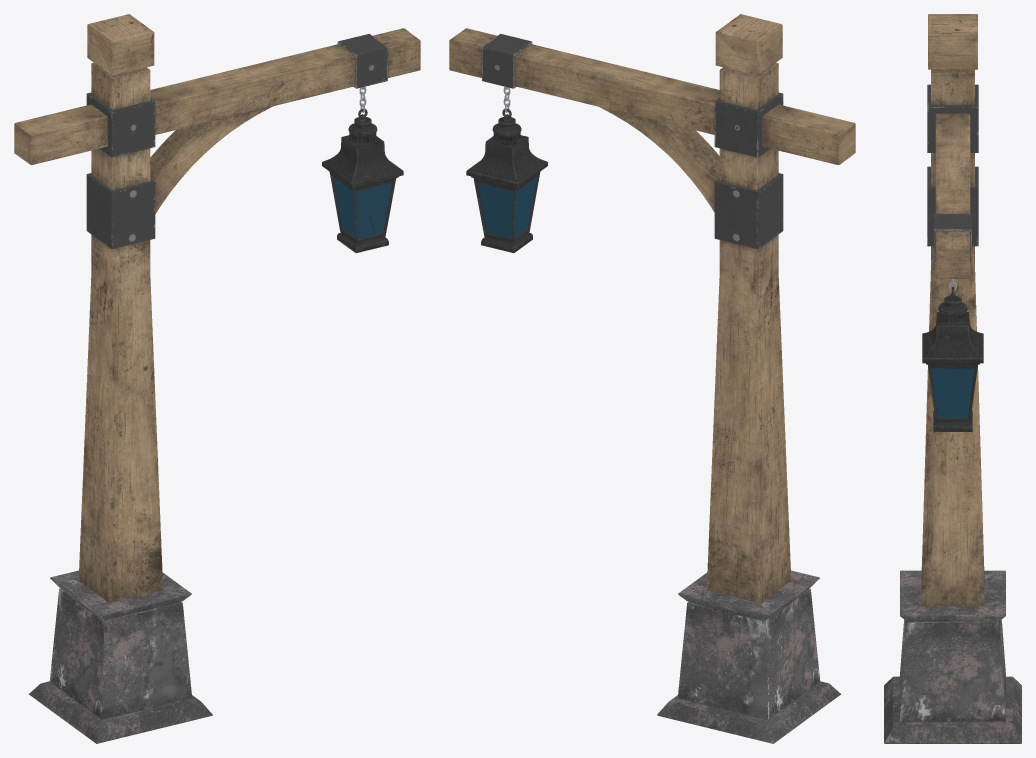
Rendered from Lantern.opt.glb.
The picture shows the model from 3 angles, left to right: view 1: azimuth 30°, elevation 25°; view 2: azimuth 150°, elevation 25°; view 3: azimuth 270°, elevation 25°; orthographic projection.
Visible parts, largest first — view 1: LanternPole_Body; view 2: LanternPole_Body; view 3: LanternPole_Body.
Boxes of the visible parts, bbox=[...] form: LanternPole_Body: bbox=[14, 14, 420, 743]; LanternPole_Body: bbox=[449, 14, 855, 743]; LanternPole_Body: bbox=[884, 14, 1021, 743].
Size of the model in its own units: 15.49 by 25.66 by 4.63.
Materials: 1 (1 with a texture image).
